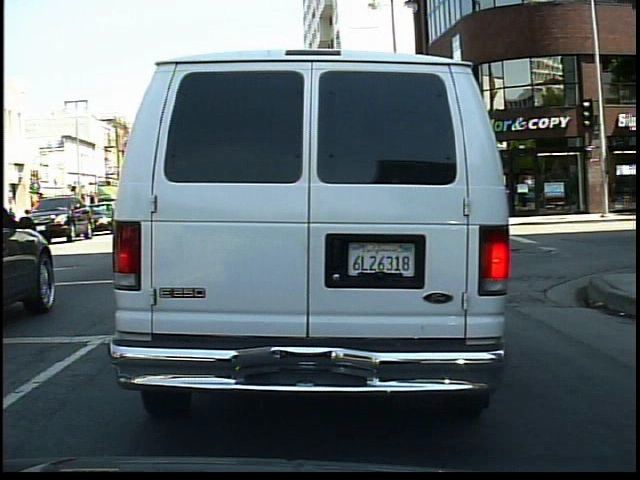person: (4, 201, 20, 239)
